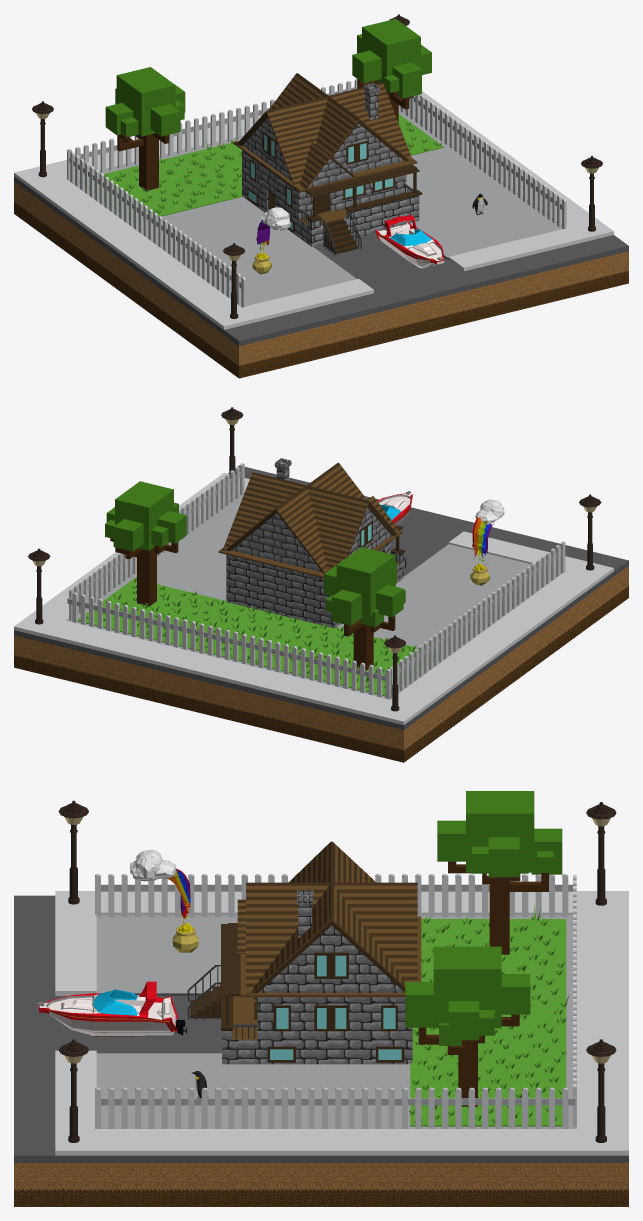
The picture shows the model from 3 angles, top to bottom: view 1: azimuth 30°, elevation 25°; view 2: azimuth 150°, elevation 25°; view 3: azimuth 270°, elevation 25°; orthographic projection. The views are drawn at different scales.
Visible parts, largest first — view 1: Cube.004, Cube.586, VEHICLES_BOAT, OBJRANDOM_RAINBOW; view 2: Cube.004, Cube.586, OBJRANDOM_RAINBOW, VEHICLES_BOAT; view 3: Cube.004, Cube.586, VEHICLES_BOAT, OBJRANDOM_RAINBOW.
Part boxes in pixels (bbox=[...]): Cube.004: bbox=[14, 14, 628, 378]; Cube.586: bbox=[233, 73, 422, 255]; VEHICLES_BOAT: bbox=[375, 215, 444, 268]; OBJRANDOM_RAINBOW: bbox=[252, 207, 290, 274]; Cube.004: bbox=[14, 407, 628, 762]; Cube.586: bbox=[218, 458, 406, 627]; OBJRANDOM_RAINBOW: bbox=[470, 499, 504, 585]; VEHICLES_BOAT: bbox=[377, 491, 412, 525]; Cube.004: bbox=[14, 791, 628, 1206]; Cube.586: bbox=[187, 841, 421, 1064]; VEHICLES_BOAT: bbox=[37, 981, 186, 1036]; OBJRANDOM_RAINBOW: bbox=[129, 849, 198, 952].
Size of the model in its own units: 4000 by 1711 by 4000.
Materials: 32 (4 with a texture image).
